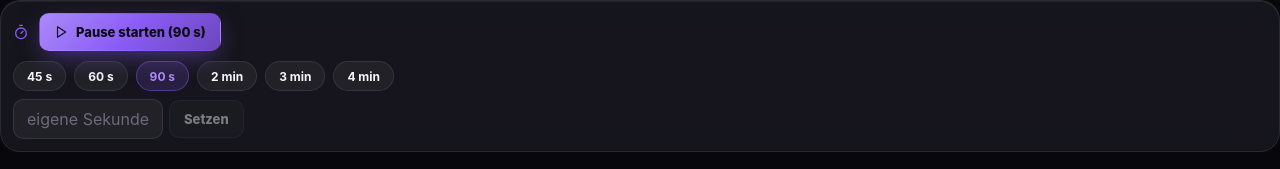
Scenario: RestTimer — adjustable pauses › counts down from the default
Click the button "Pause starten (90 s)" at (130, 32), box x1=39 y1=13 x2=221 y2=51
Wait 10000 ms
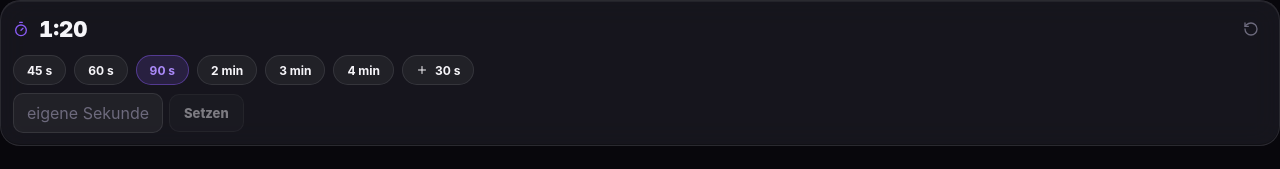
Check: the text "1:20" is shown, box x1=39 y1=16 x2=88 y2=42
